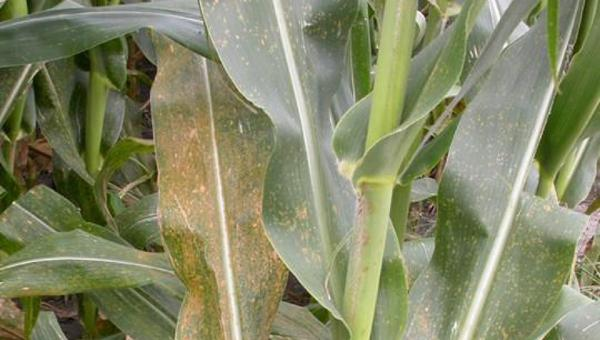Corn rust leaf: (198, 1, 414, 340), (136, 18, 290, 340)
